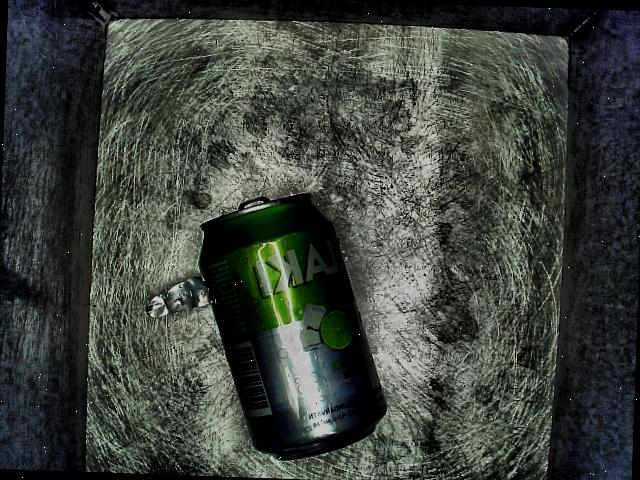Bottles: (140, 160, 395, 478)
